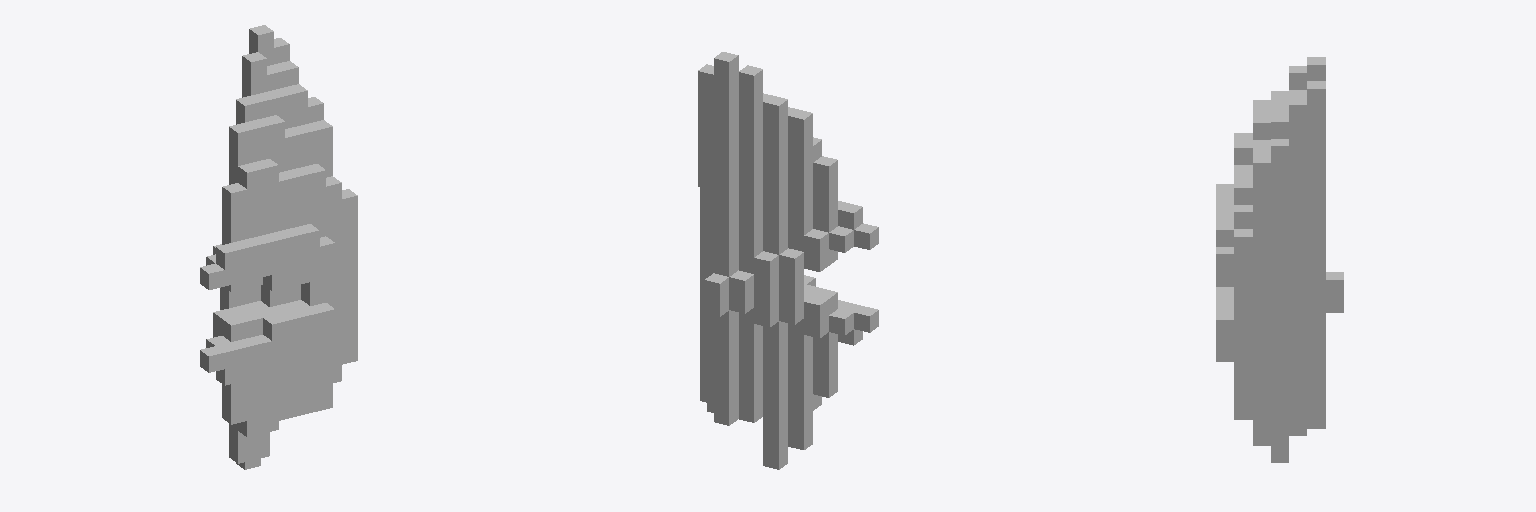
The model's file is боковой осколок ( бок 3).obj.
3 renders of one model, left to right at view 1: azimuth 30°, elevation 25°; view 2: azimuth 150°, elevation 25°; view 3: azimuth 270°, elevation 25°, orthographic.
Visible parts, largest first — view 1: object 1; view 2: object 1; view 3: object 1.
Boxes of the visible parts, x1=… form: object 1: x1=200, y1=25, x2=357, y2=469; object 1: x1=698, y1=52, x2=878, y2=469; object 1: x1=1216, y1=57, x2=1343, y2=462.
Bounding box in the file's own units: 1 × 2.5 × 0.7.